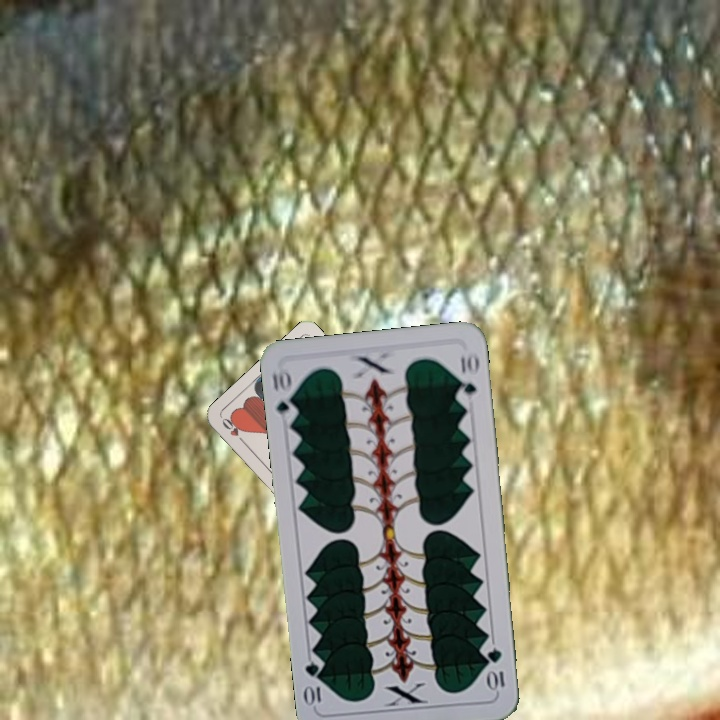G10: (268, 364, 300, 424), (484, 644, 507, 693)
HO: (218, 414, 249, 448)
